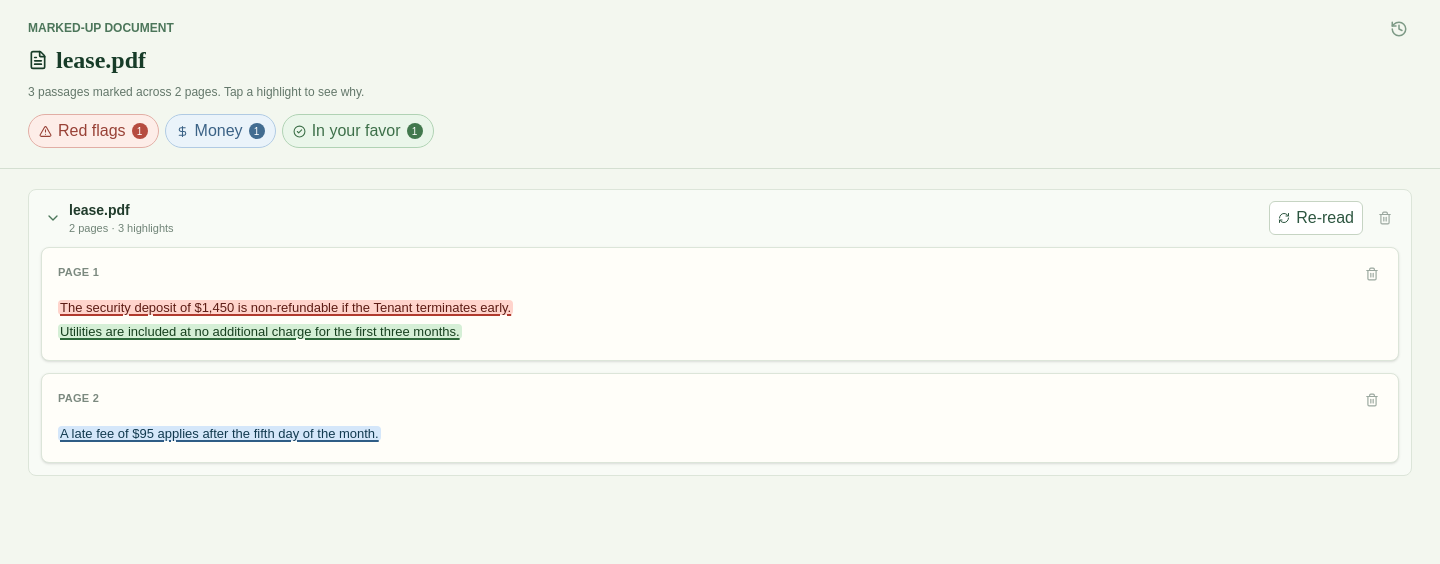
Test: deleting a page › takes the page out of the view, saves it, and lists it in the history
Click the button named "Delete page 2" at (1372, 400), box [1358,386,1386,414]
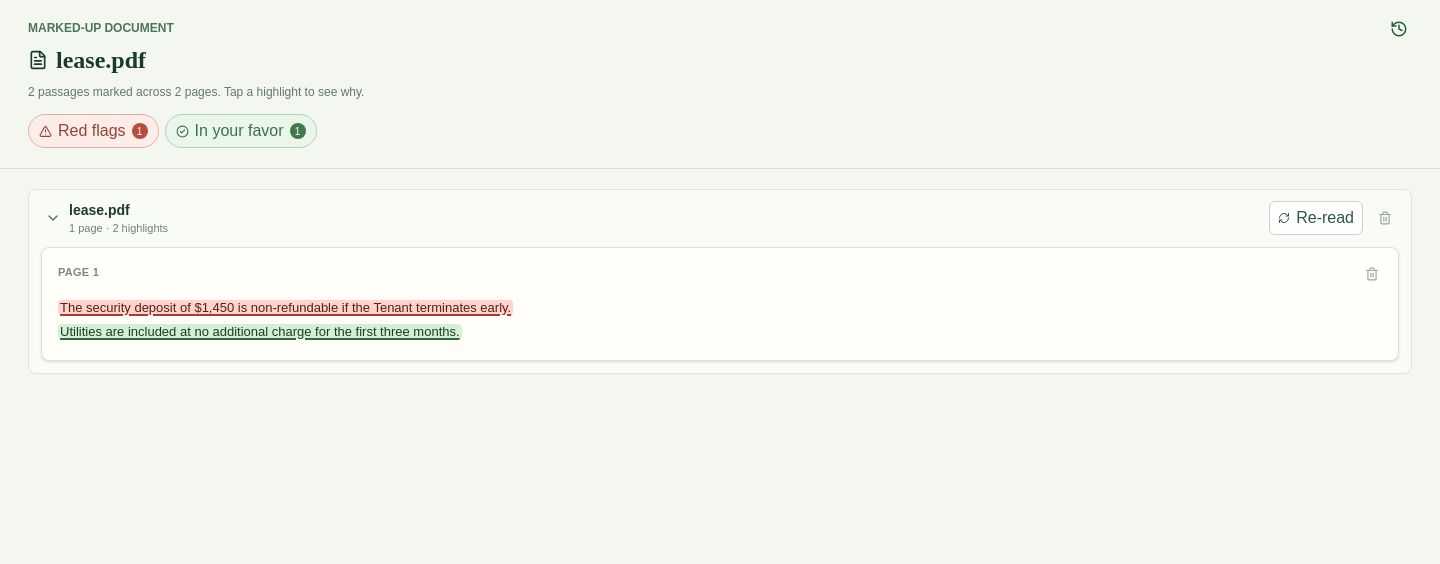
Click the button named "History" at (1399, 29), box [1386,16,1412,42]
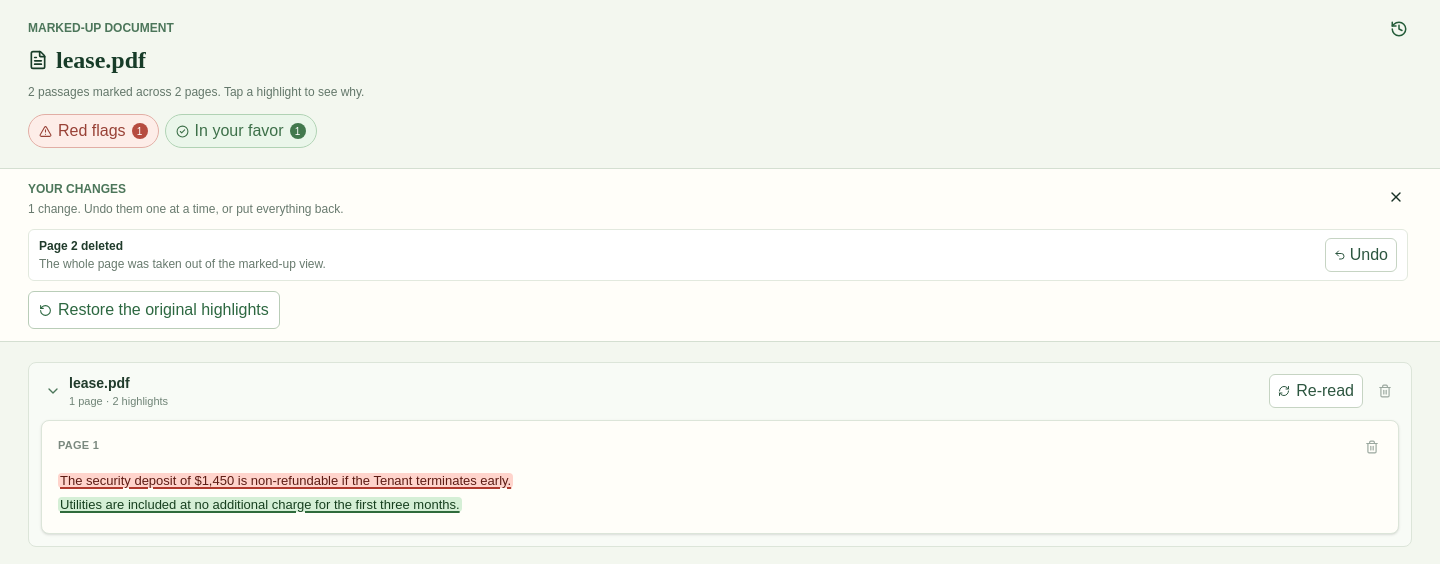
Now the text "Page 2 deleted" is shown, box [39,239,123,253]
